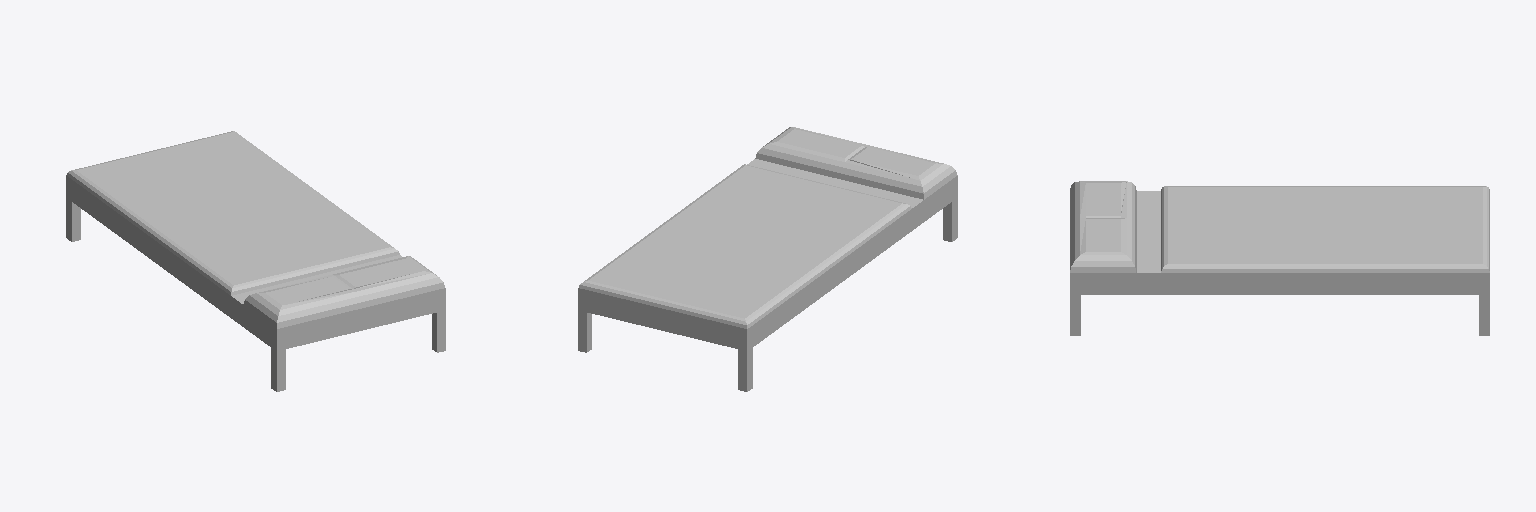
File: bed.obj
3 renders of one model, left to right at view 1: azimuth 30°, elevation 25°; view 2: azimuth 150°, elevation 25°; view 3: azimuth 270°, elevation 25°, orthographic.
Parts seen in each view (by area): view 1: bed:bed; view 2: bed:bed; view 3: bed:bed.
Boxes of the visible parts, <box> form: bed:bed: <box>66,131,445,391</box>; bed:bed: <box>578,127,957,391</box>; bed:bed: <box>1070,181,1489,335</box>.
Bounding box in the file's own units: 2.19 × 0.9606 × 4.72.